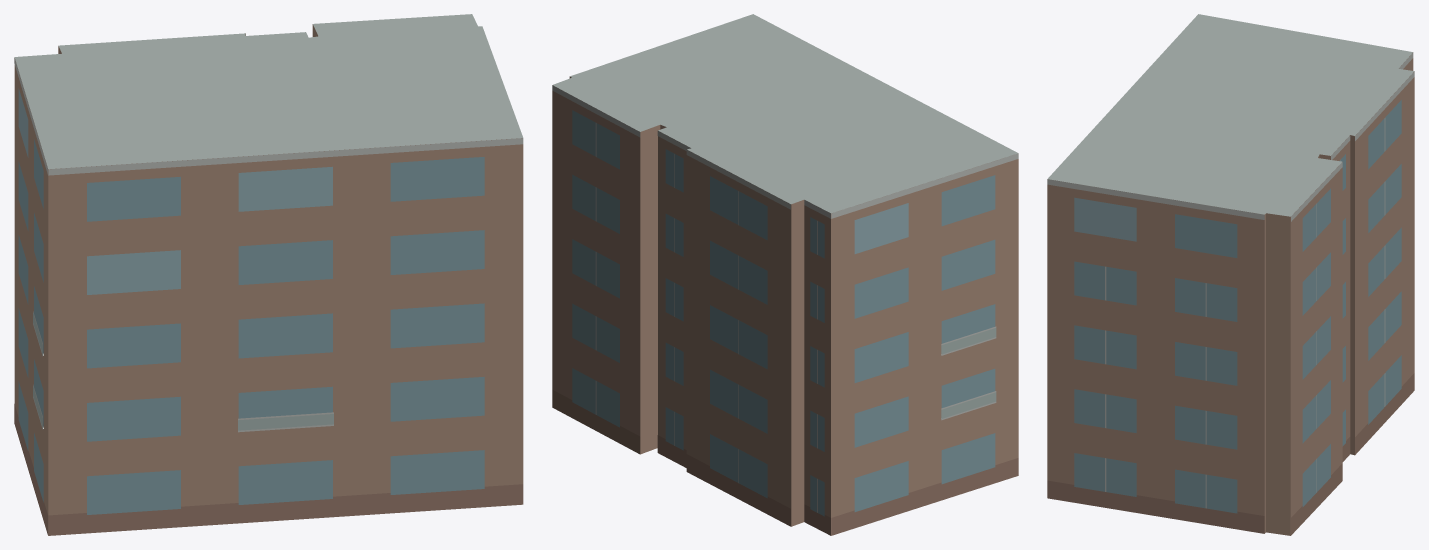
File: survey-upis-33037577.glb
3 renders of one model, left to right at view 1: azimuth 30°, elevation 25°; view 2: azimuth 150°, elevation 25°; view 3: azimuth 270°, elevation 25°, orthographic. The views are drawn at different scales.
Visible parts, largest first — view 1: survey-upis-33037577.tmp; view 2: survey-upis-33037577.tmp; view 3: survey-upis-33037577.tmp.
Boxes of the visible parts, x1,y1,x2,y2 form: survey-upis-33037577.tmp: (14, 14, 523, 535); survey-upis-33037577.tmp: (552, 14, 1018, 535); survey-upis-33037577.tmp: (1047, 14, 1414, 535).
Size of the model in its own units: 19.35 by 14.2 by 14.82.
